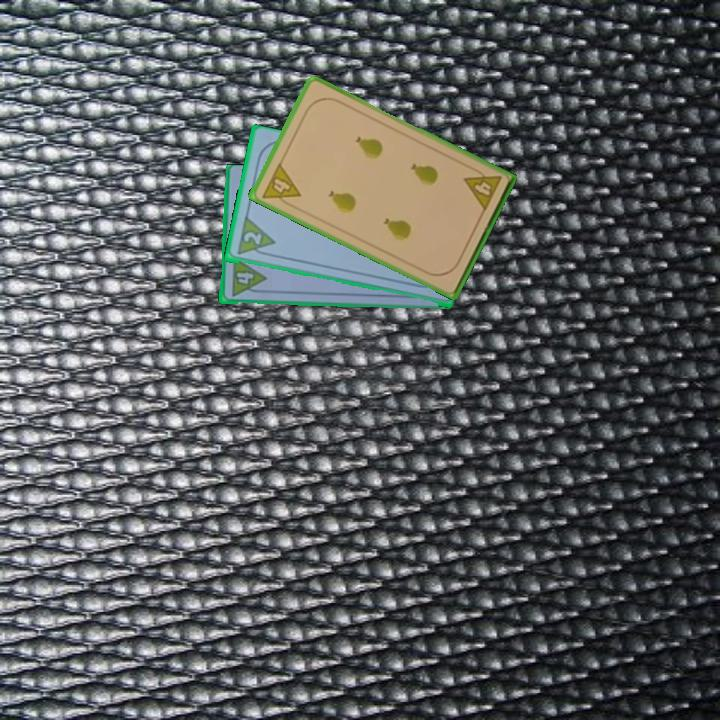2p: (240, 228, 264, 248)
4p: (258, 159, 303, 211), (460, 163, 504, 214), (227, 255, 268, 300)
